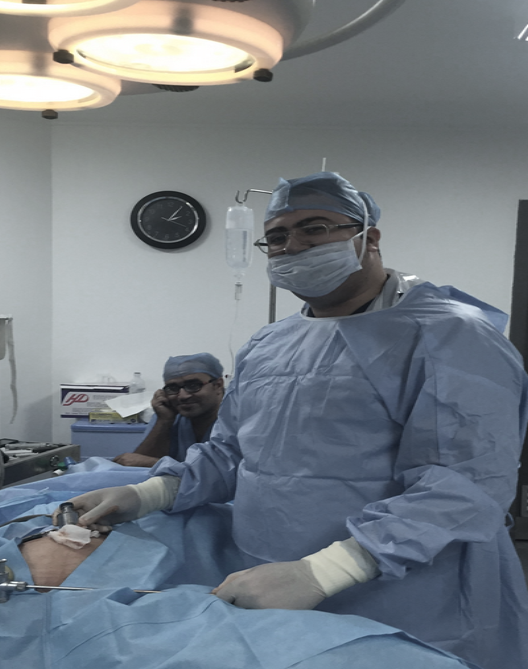mask_weared_incorrect: (246, 176, 381, 302)
